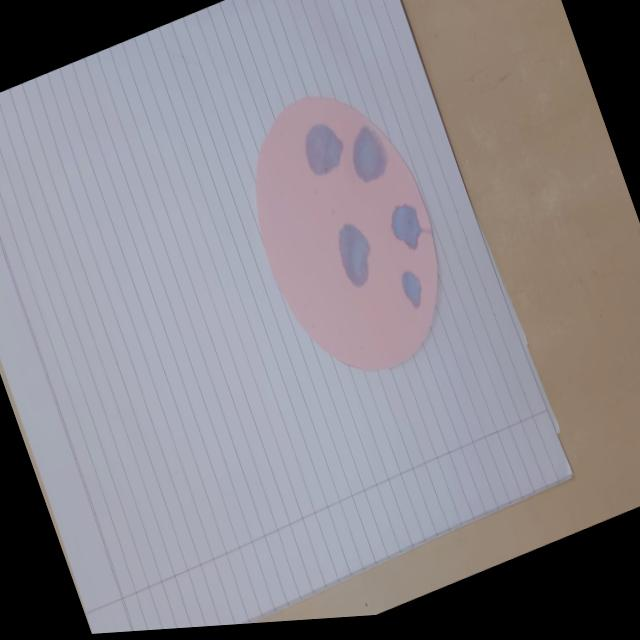BlueColor: (338, 223, 369, 286), (305, 123, 342, 174), (353, 125, 386, 181), (391, 203, 421, 248), (401, 270, 421, 305)
